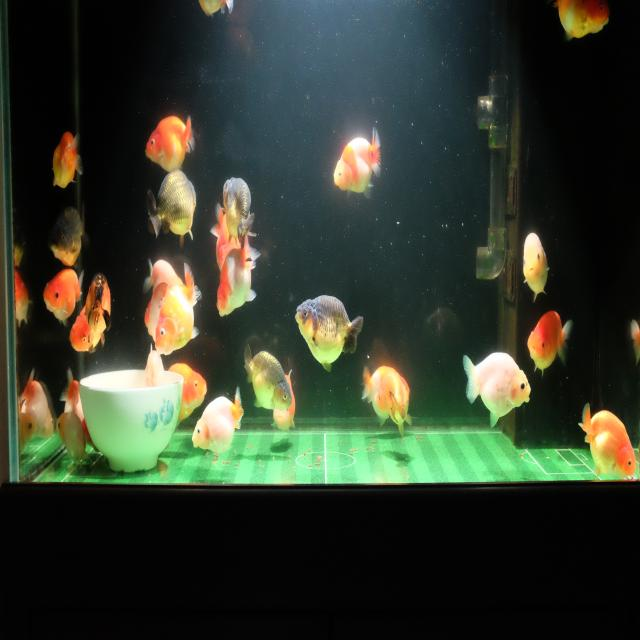Goldfish: (294, 292, 364, 378), (460, 350, 532, 430), (577, 401, 638, 481), (154, 261, 204, 358), (146, 170, 200, 251), (214, 233, 262, 322), (190, 384, 244, 459), (332, 124, 383, 201), (241, 342, 294, 416), (144, 112, 200, 174), (361, 361, 411, 427), (166, 359, 210, 434), (526, 307, 574, 375), (374, 364, 415, 442), (42, 202, 88, 270), (221, 173, 259, 254), (38, 264, 86, 325), (551, 0, 613, 46), (48, 125, 86, 198), (18, 367, 54, 440), (522, 228, 552, 304), (67, 300, 106, 356), (57, 412, 93, 472), (141, 256, 189, 300), (271, 366, 298, 436), (86, 269, 114, 331), (142, 276, 168, 342), (61, 361, 83, 421)
